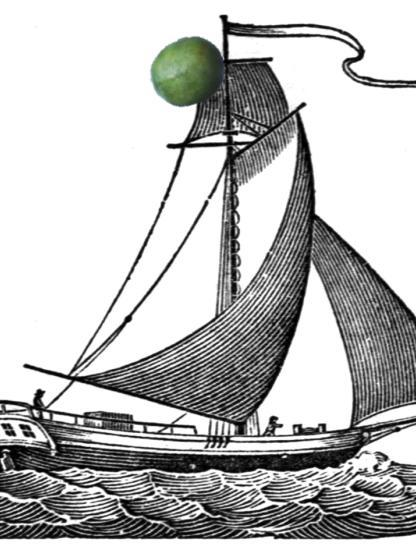Mango: (150, 35, 228, 113)
